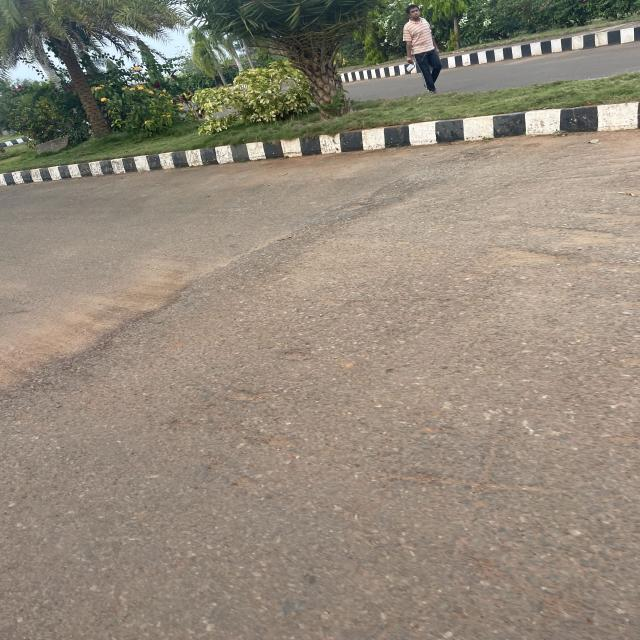D11: (19, 259, 223, 405)
